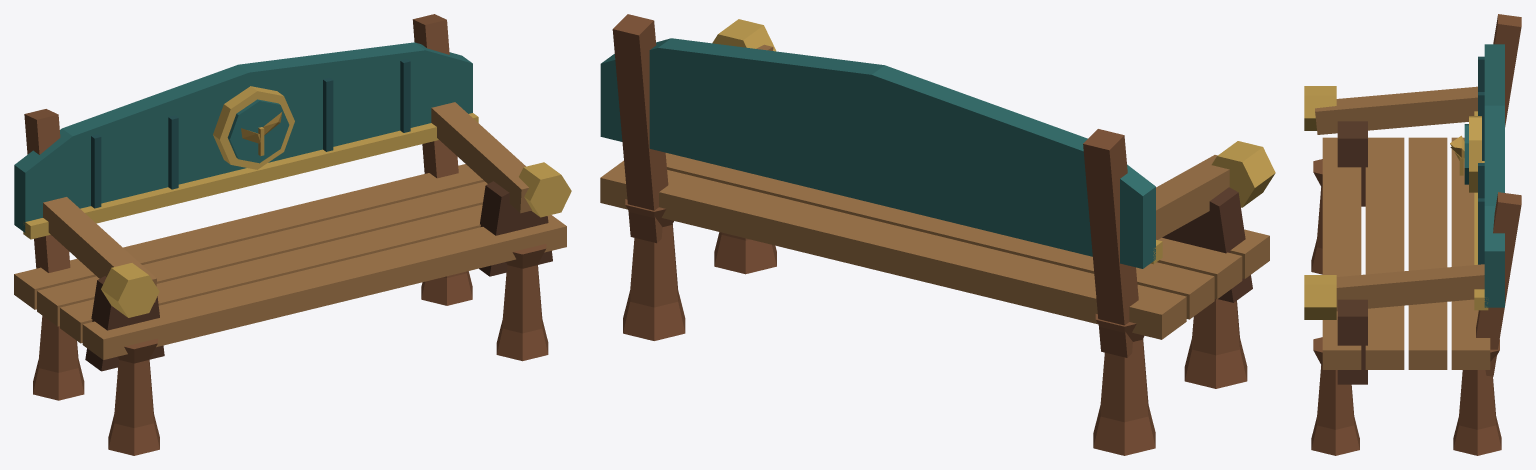
Rendered from bench.glb.
The picture shows the model from 3 angles, left to right: view 1: azimuth 30°, elevation 25°; view 2: azimuth 150°, elevation 25°; view 3: azimuth 270°, elevation 25°; orthographic projection. The views are drawn at different scales.
Visible parts, largest first — view 1: bench; view 2: bench; view 3: bench.
Part boxes in pixels (x1,y1,x2,y2): bench: (14, 14, 571, 455); bench: (600, 14, 1275, 455); bench: (1304, 14, 1521, 455).
Bounding box in the file's own units: 2.34 × 1.28 × 1.01.
